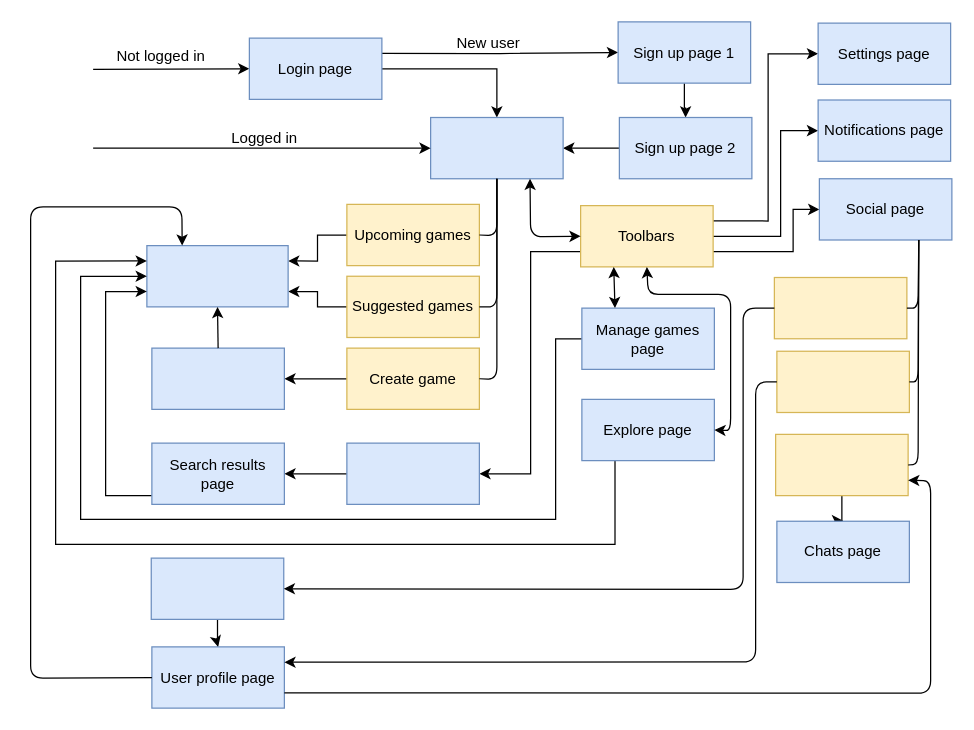
The diagram is 974 pixels wide and 730 high, and some of its shapes have lost their labels. The centre of each missing label's shape, as x and y in pixels:
Chat: (x=841, y=464)
Create game page: (x=217, y=378)
Friends: (x=842, y=381)
Game details page: (x=217, y=275)
Group page: (x=217, y=588)
Groups: (x=840, y=307)
Home page: (x=496, y=147)
Search game page: (x=412, y=473)
